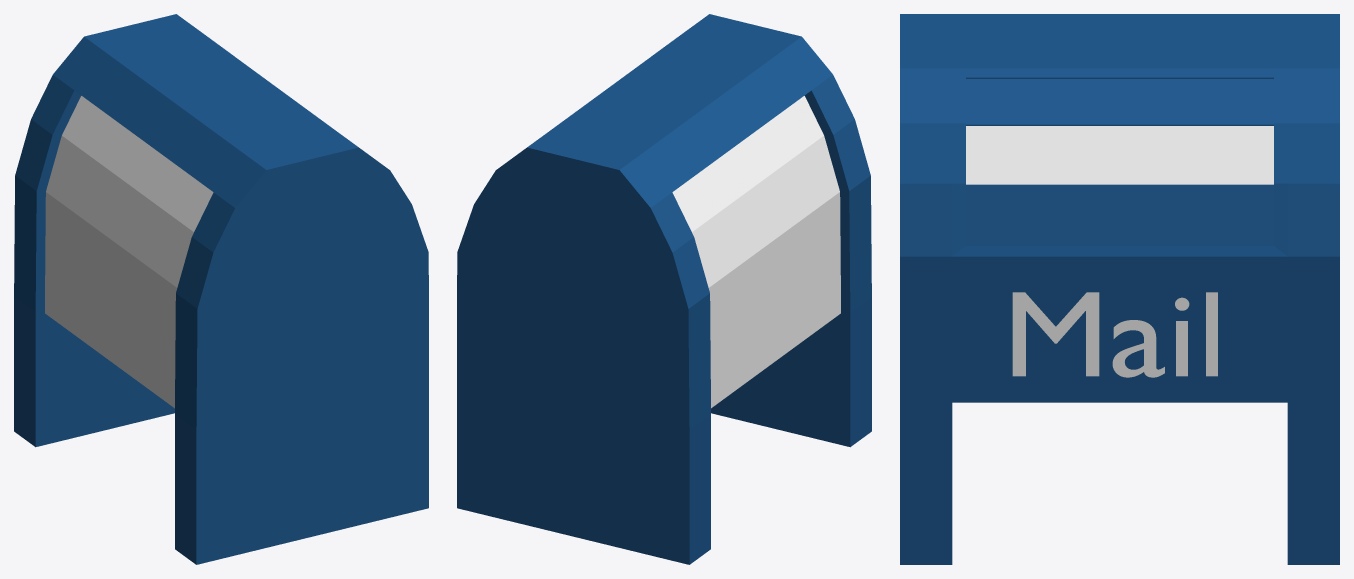
File: Mail.fbx
3 renders of one model, left to right at view 1: azimuth 30°, elevation 25°; view 2: azimuth 150°, elevation 25°; view 3: azimuth 270°, elevation 25°, orthographic. The views are drawn at different scales.
Parts seen in each view (by area): view 1: Cube; view 2: Cube; view 3: Cube, Text.
Boxes of the visible parts, left/top/right/bottom form: Cube: left=14, top=14, right=428, bottom=564; Cube: left=457, top=14, right=871, bottom=564; Cube: left=900, top=14, right=1339, bottom=564; Text: left=1012, top=292, right=1217, bottom=377.
Size of the model in its own units: 25.05 by 38.88 by 34.03.
